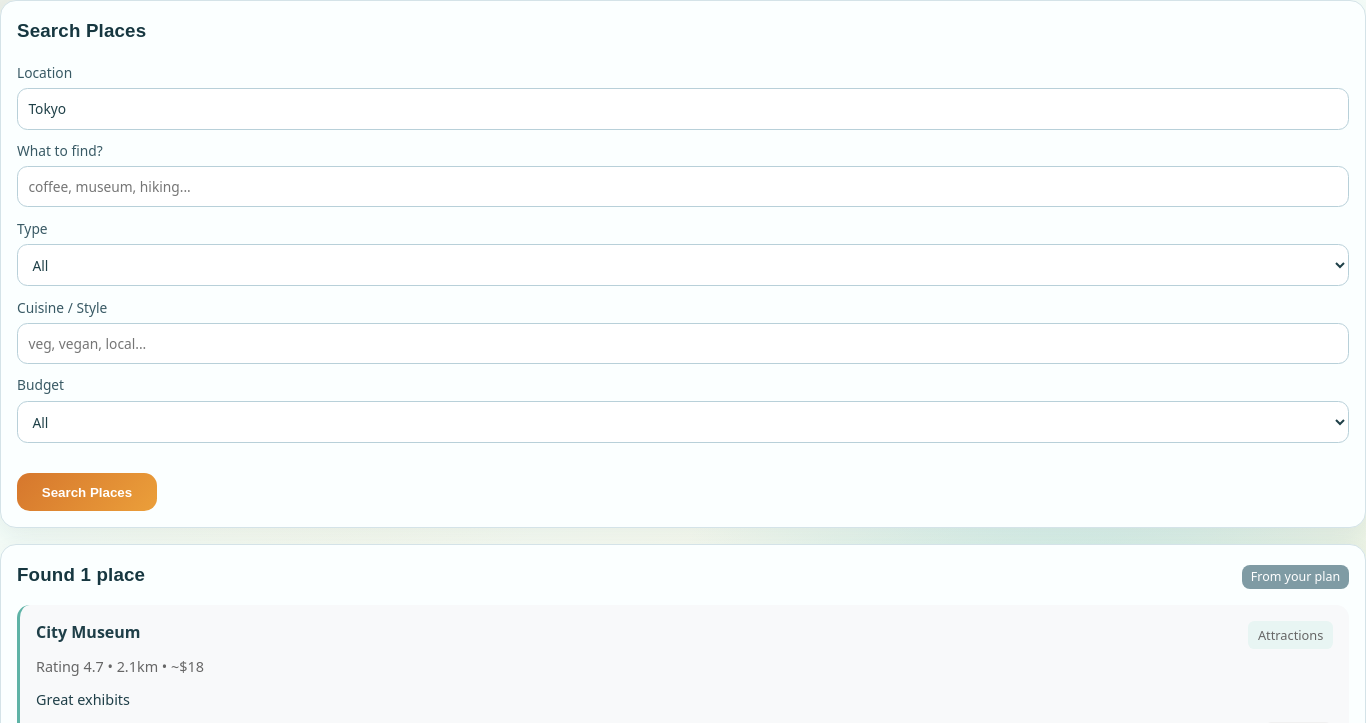
Test: ExplorerPanel › fetches live places and allows resetting back to planned places
Click the button "Search Places" at (87, 492), box [17,474,157,511]
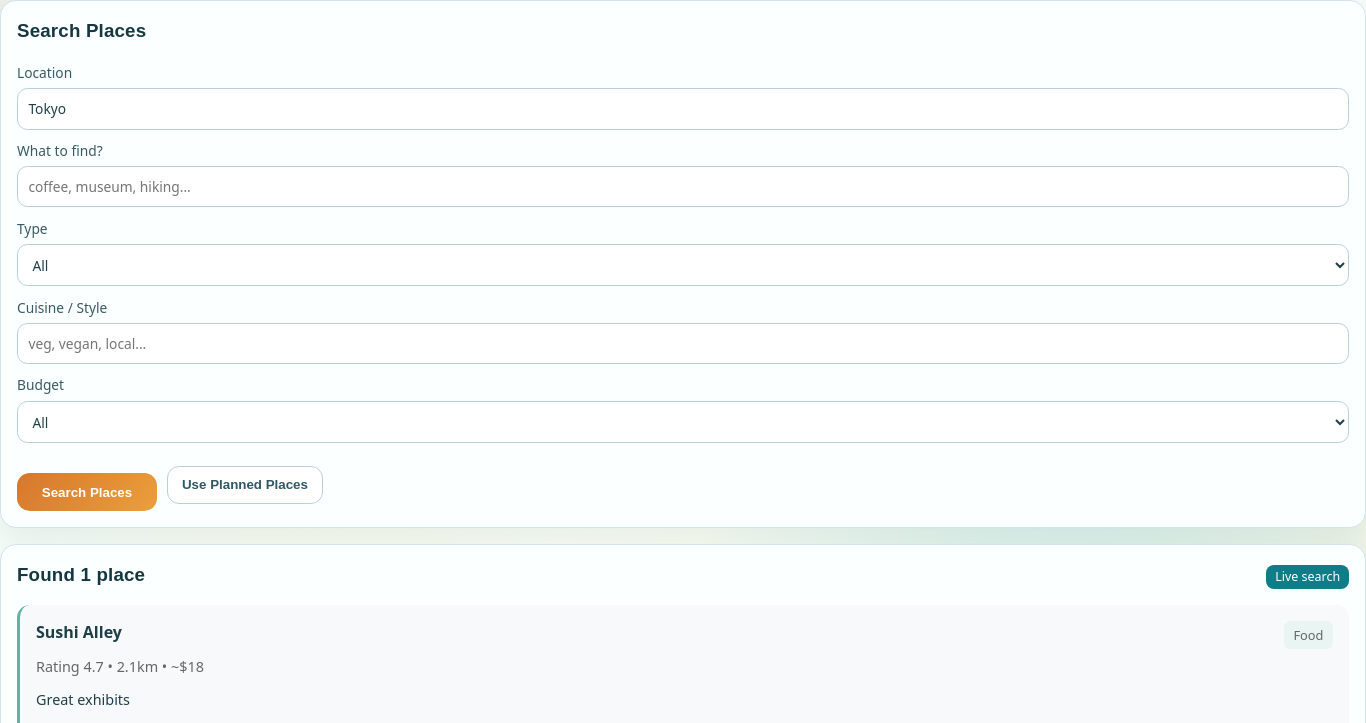
Now the text "Sushi Alley" is shown, box [36,621,122,644]
Now the text "Live search" is shown, box [1266,565,1349,589]
Now the button "Use Planned Places" is shown
Click the button "Use Planned Places" at (245, 485), box [167,466,323,504]
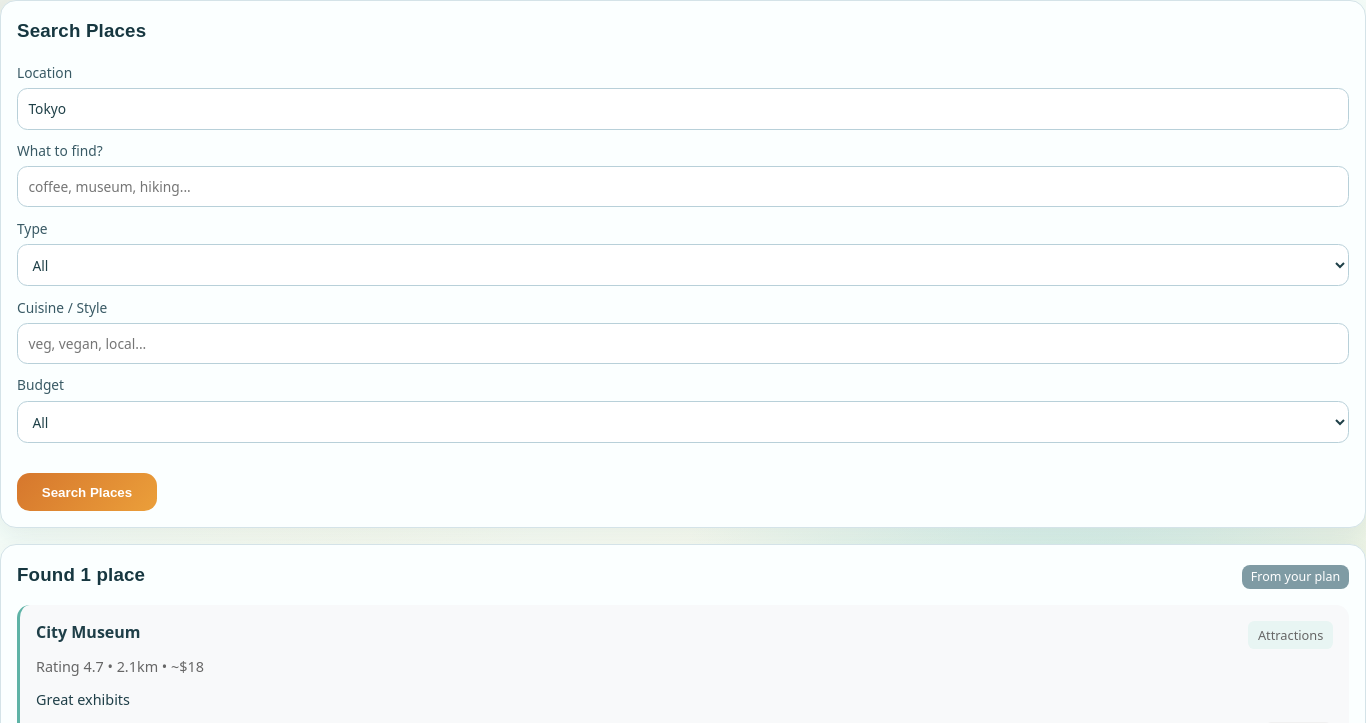
Now the text "City Museum" is shown, box [36,621,140,644]
Now the text "From your plan" is shown, box [1242,565,1349,589]
